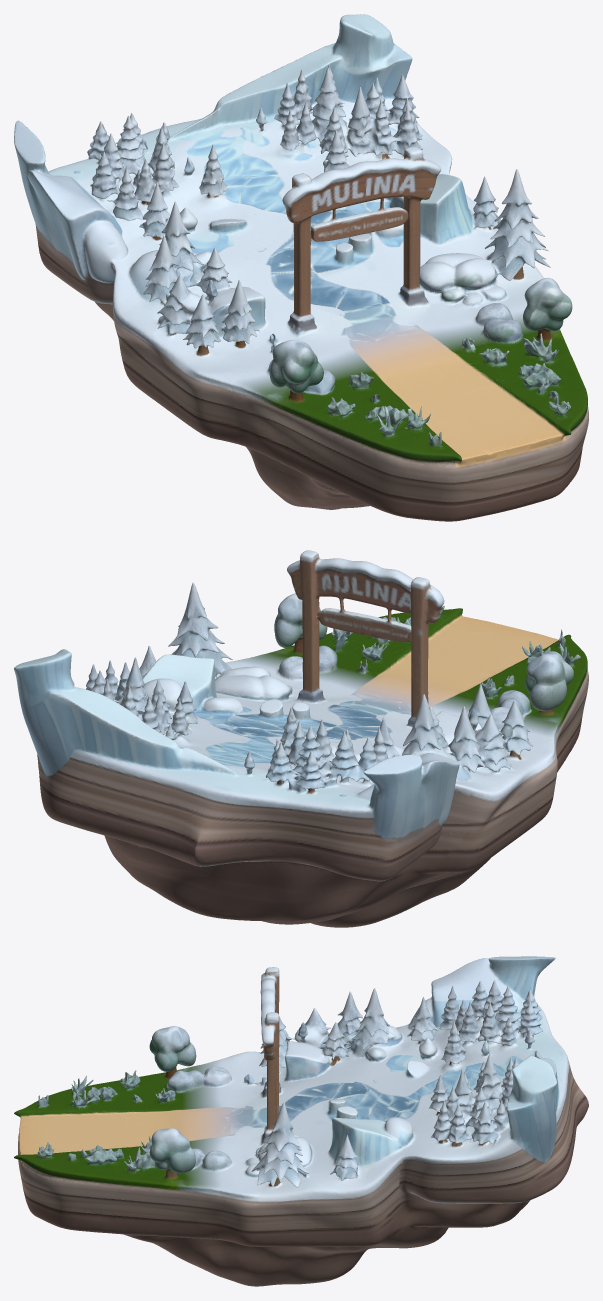
The model's file is EnamelBorder-Region4.glb.
The picture shows the model from 3 angles, top to bottom: view 1: azimuth 30°, elevation 25°; view 2: azimuth 150°, elevation 25°; view 3: azimuth 270°, elevation 25°; orthographic projection. The views are drawn at different scales.
Size of the model in its own units: 1.25 by 1.01 by 1.9.
Materials: 1 (1 with a texture image).
